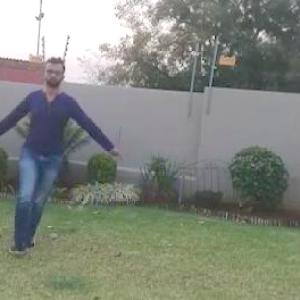land: (0, 65, 109, 241)
